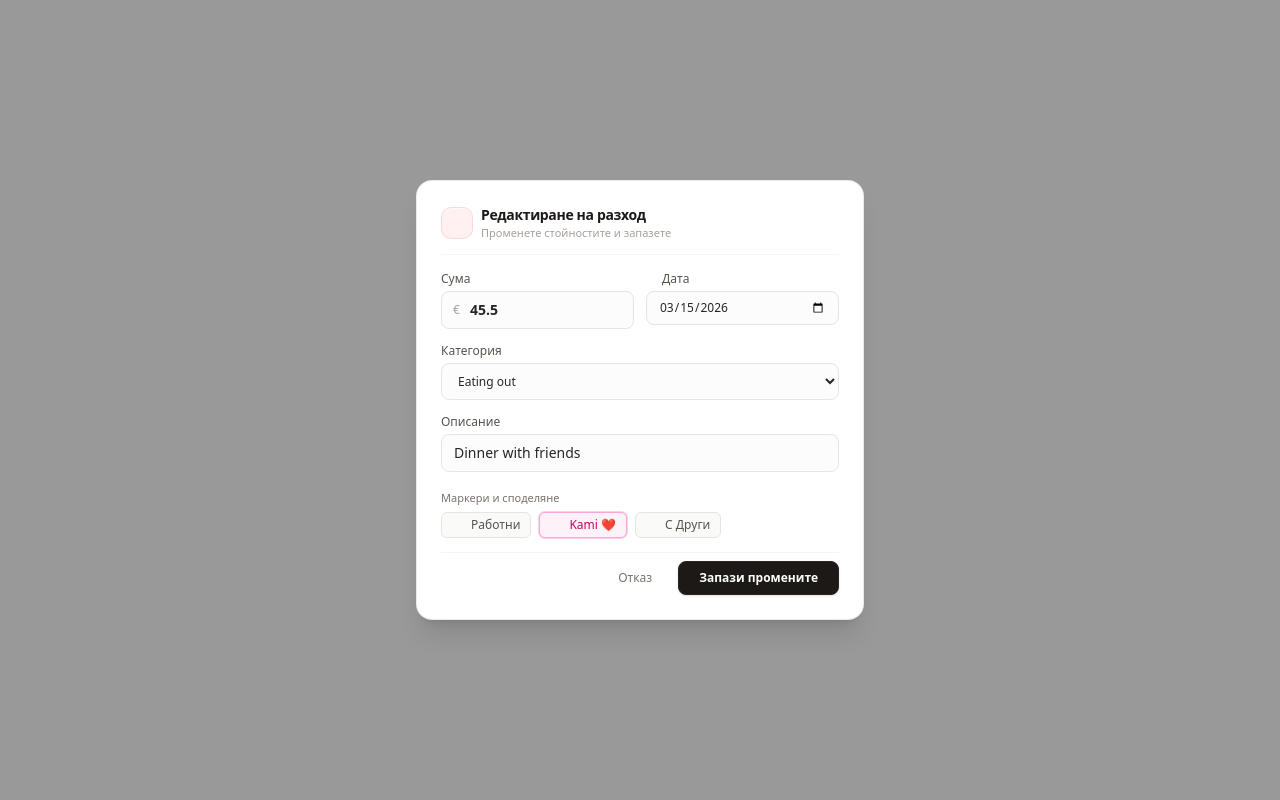
Scenario: EditTransactionModal › shows validation error when amount is invalid or zero
Step 1. Replace the text in the field labelled "Сума" with "0" → (538, 310), box [441,290,634,328]
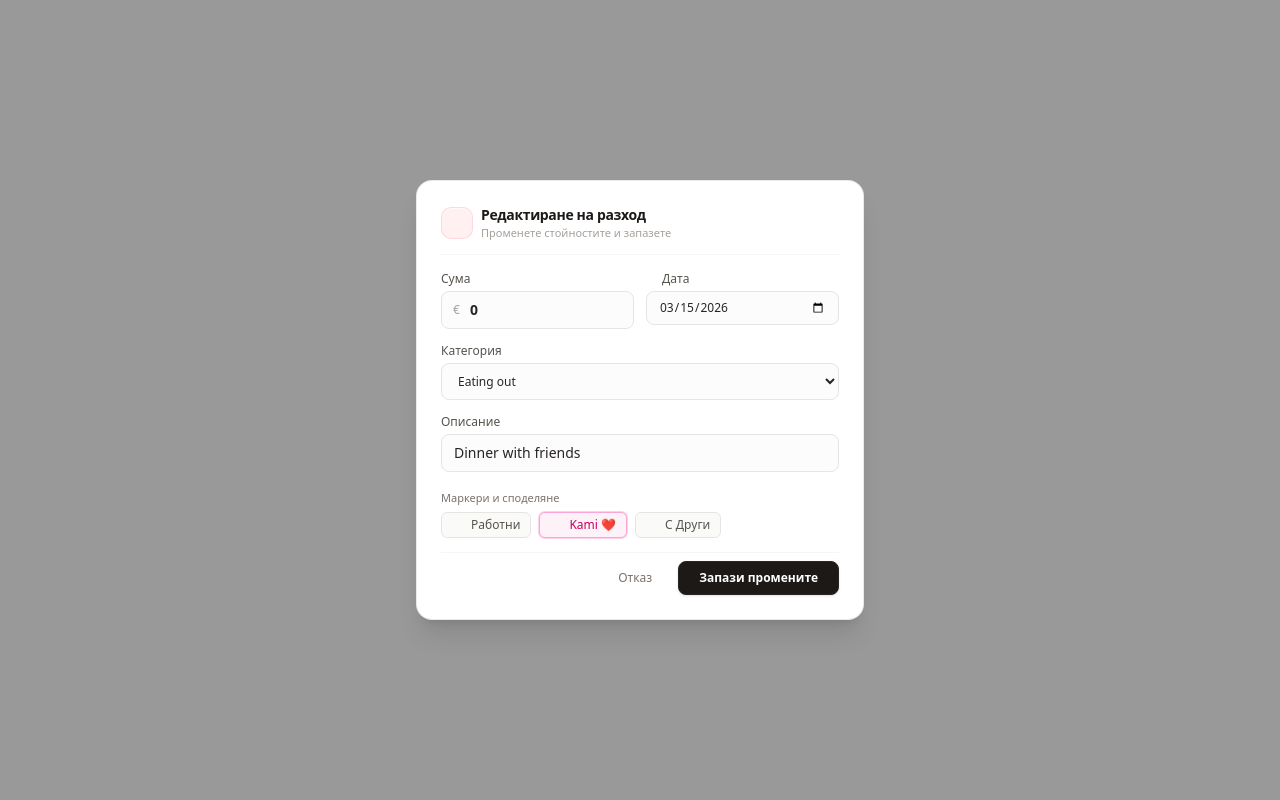
Step 2. Click the button "Запази промените" → (759, 578), box [678,561,839,595]
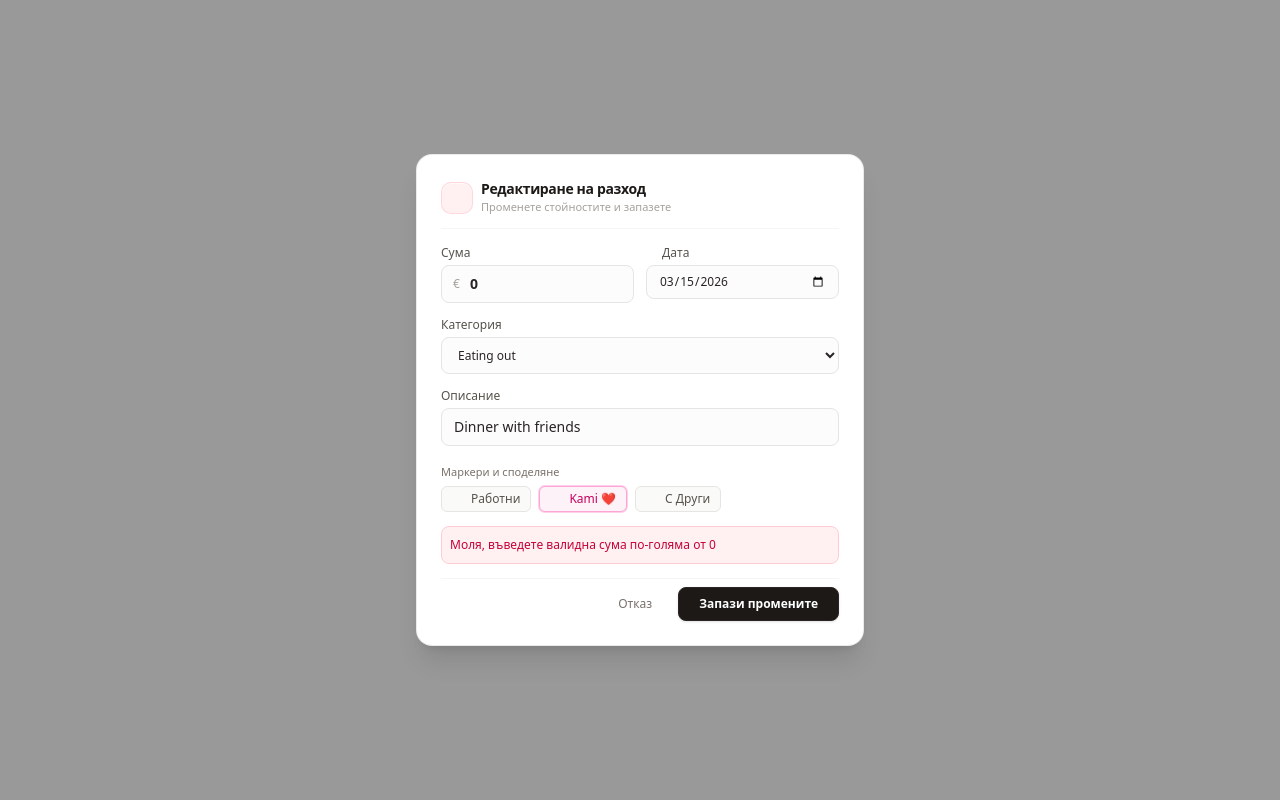
Check: the text "Моля, въведете валидна сума по-голяма от 0" is shown, box [441,526,839,564]
